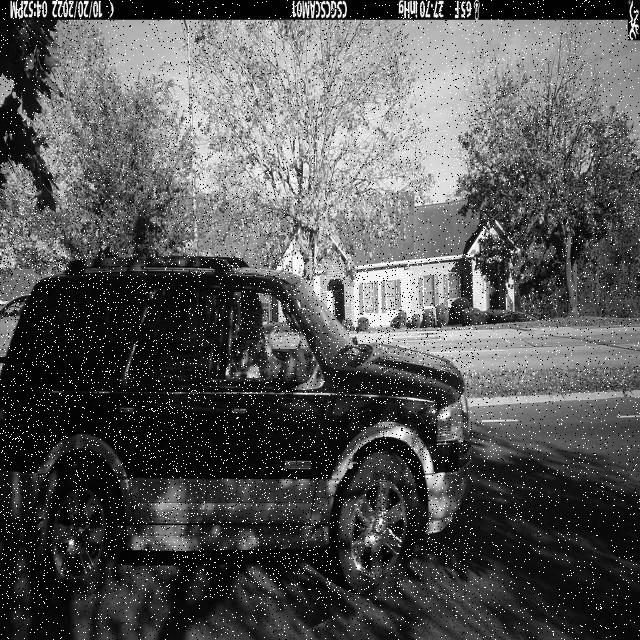SUV: (0, 253, 473, 600)
